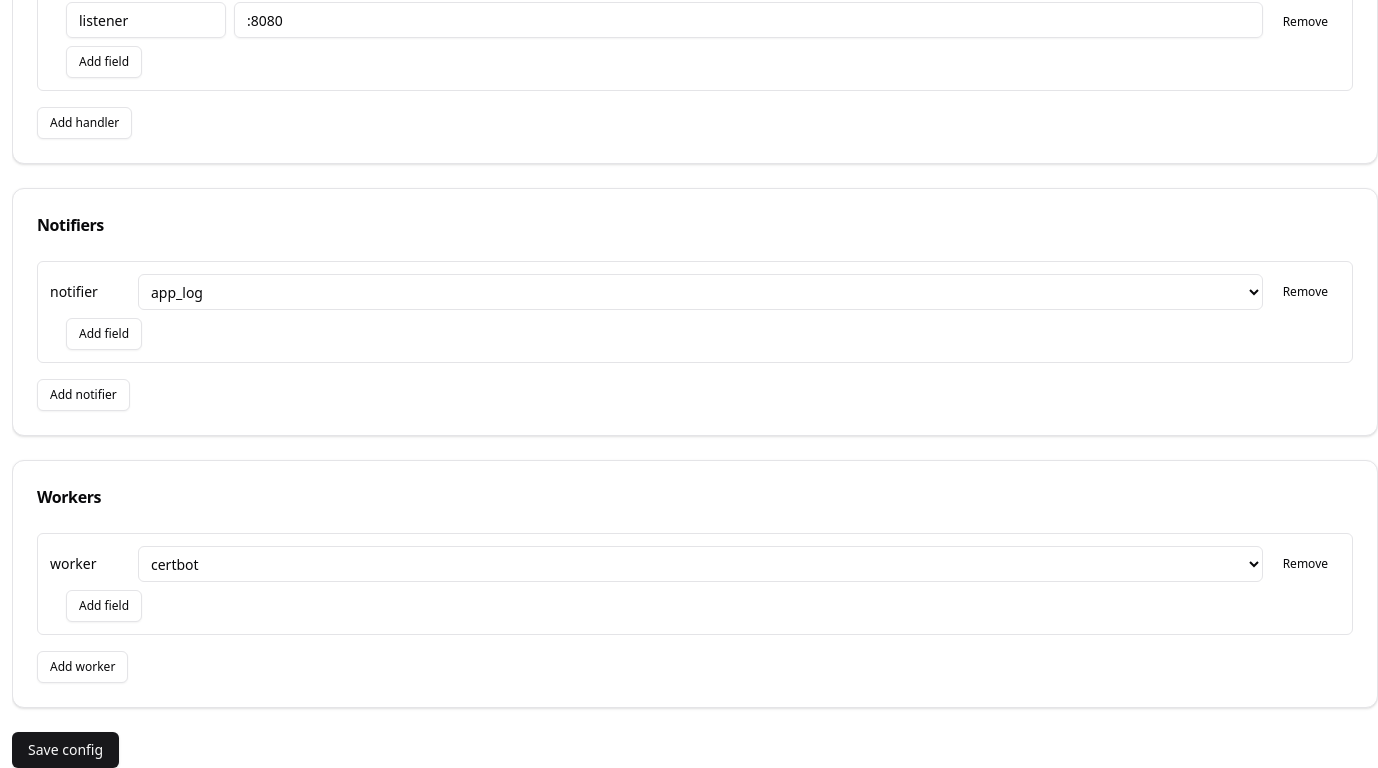
Scenario: Config page › shows success banner after save
(page scrolled)
Click the button "Save config": (66, 750) [12,732,119,767]
(page scrolled)
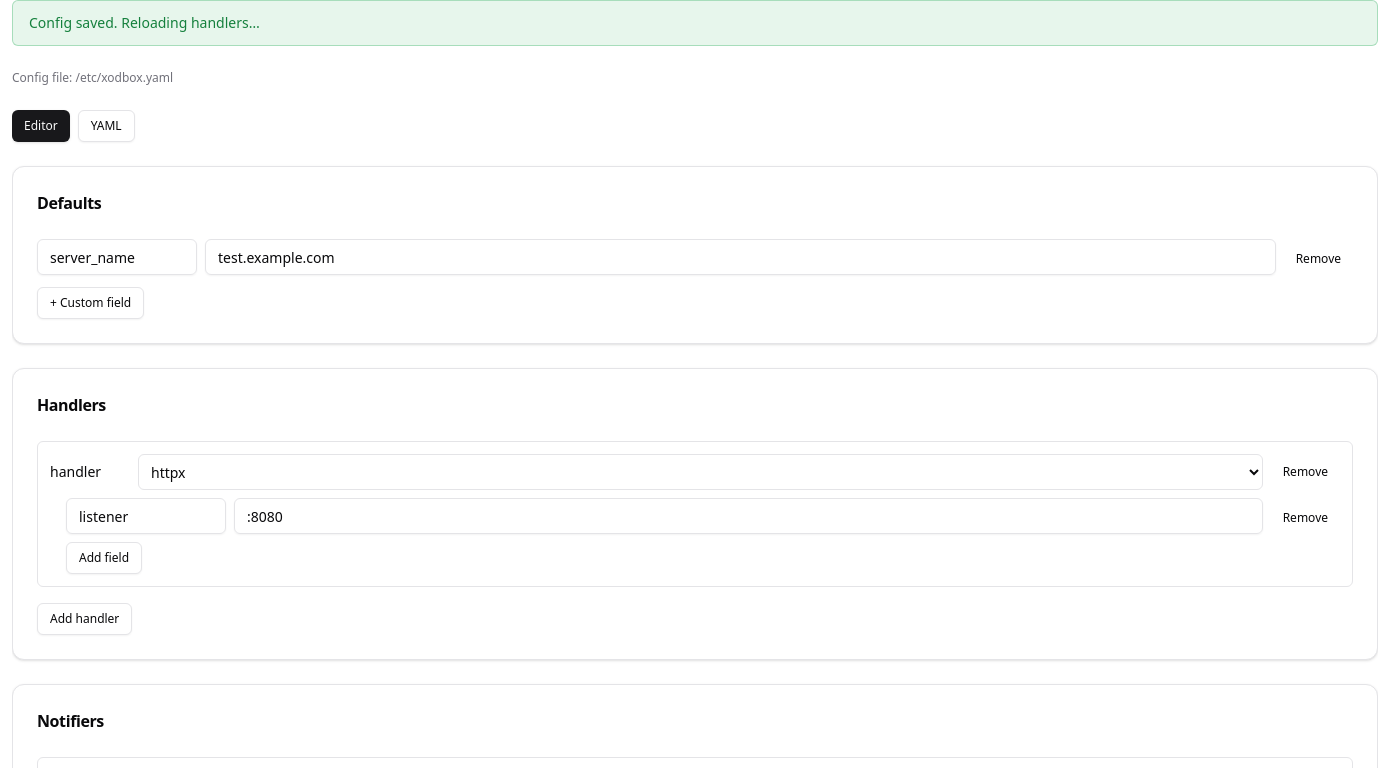
Now the text "Config saved. Reloading handlers…" is shown, box [12,0,1377,46]
